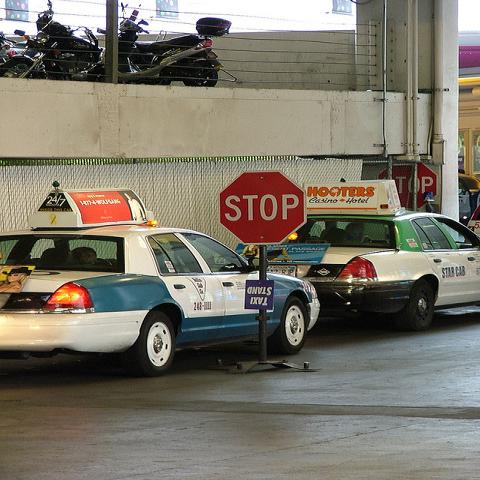car: (1, 180, 320, 376), (243, 179, 479, 333)
motorcycle: (88, 3, 233, 88), (0, 3, 107, 79)
